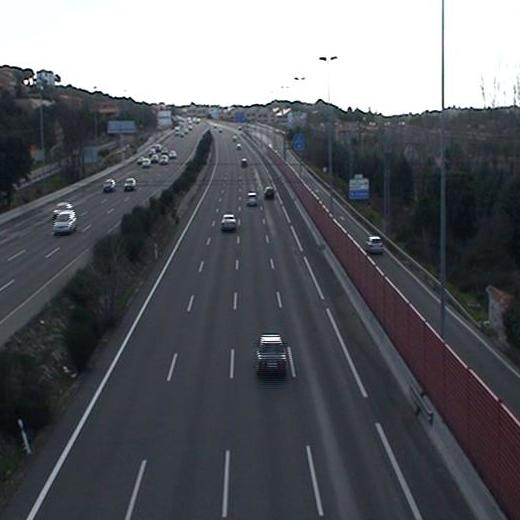car: (255, 335, 287, 372), (219, 213, 237, 231), (263, 185, 276, 201), (247, 193, 258, 208)
